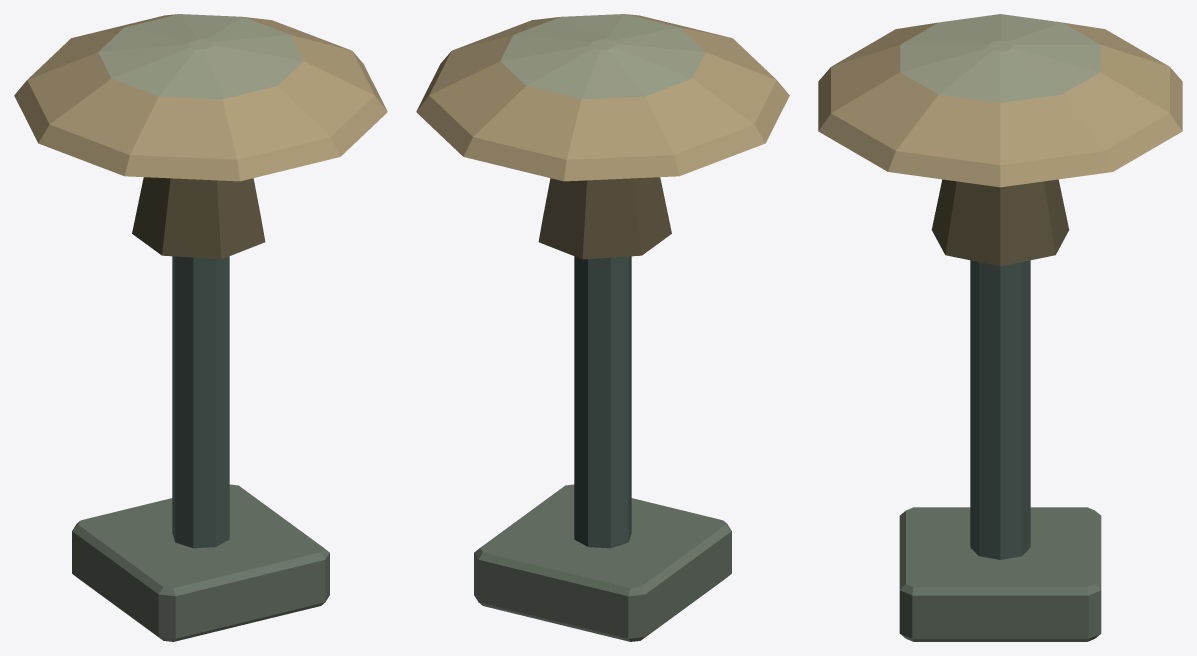
File: fungal-lantern.glb
The picture shows the model from 3 angles, left to right: view 1: azimuth 30°, elevation 25°; view 2: azimuth 150°, elevation 25°; view 3: azimuth 270°, elevation 25°; orthographic projection.
Parts seen in each view (by area): view 1: fungal-lantern__body; view 2: fungal-lantern__body; view 3: fungal-lantern__body.
Boxes of the visible parts, x1,y1,x2,y2 form: fungal-lantern__body: [14, 14, 387, 641]; fungal-lantern__body: [416, 14, 789, 641]; fungal-lantern__body: [818, 14, 1182, 641].
Size of the model in its own units: 0.76 by 1.22 by 0.7228.
